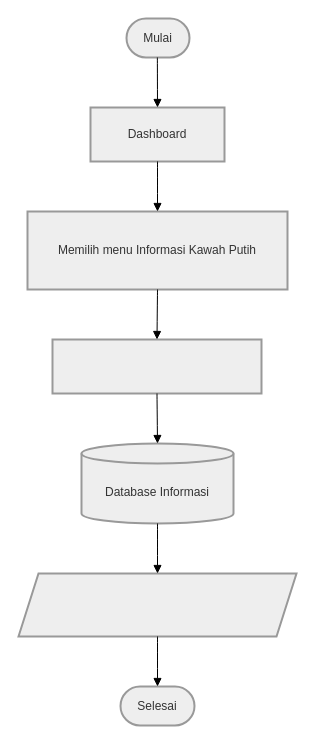
This 314x743 diagram has some shape labels left out. Here are the shapes that lost their labels. From the top down, the centre of each, then its label:
At point (156, 366): "Ambil data informasi".
At point (157, 604): "Tampilkan informasi destinasi".
